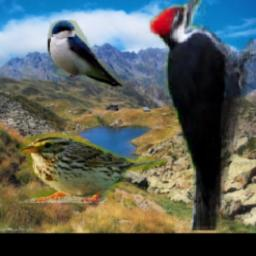Sparrow: (19, 135, 166, 203)
Swallow: (48, 19, 124, 87)
Woodpecker: (146, 0, 256, 231)
